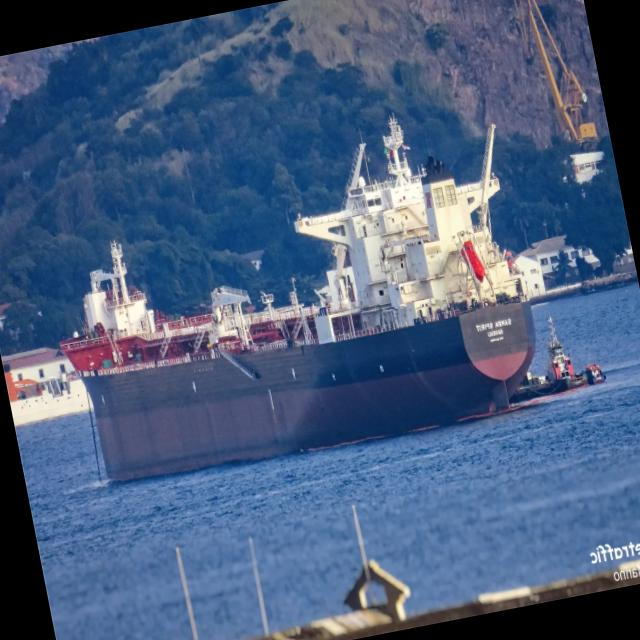Tanker: (87, 117, 536, 480)
